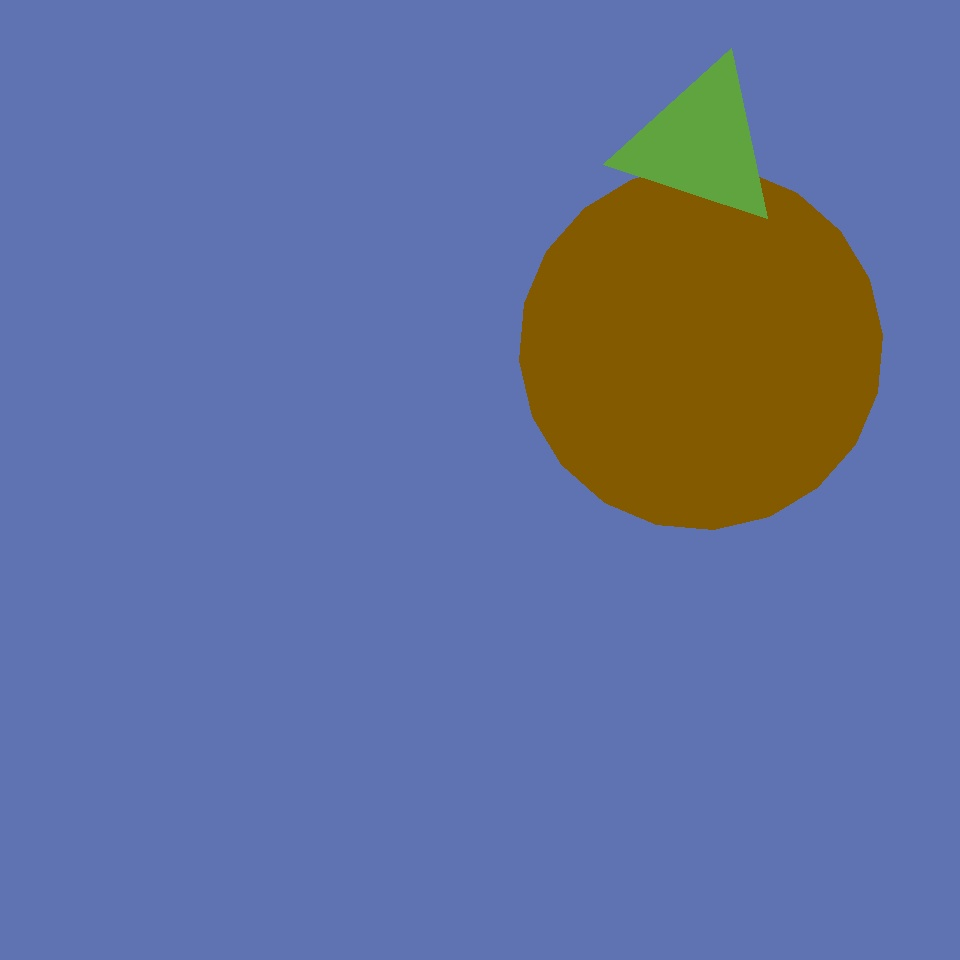circle: (542, 348, 863, 662), (619, 59, 783, 229)
triangle: (520, 166, 882, 530), (299, 514, 654, 869), (381, 312, 583, 514)
